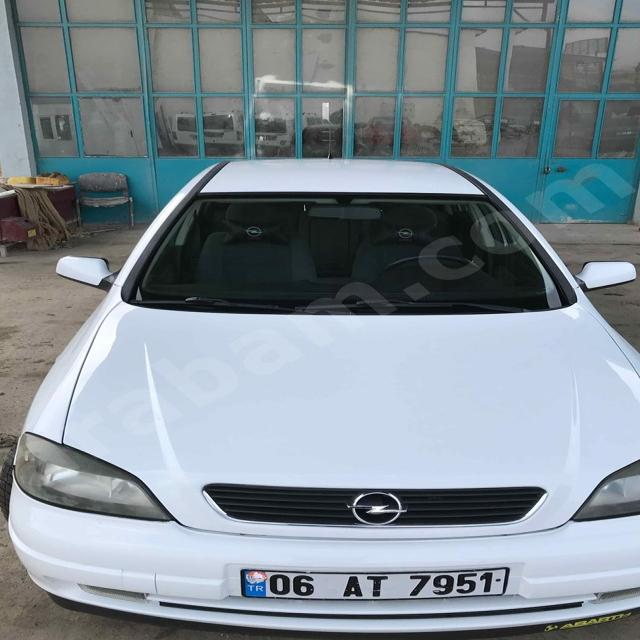license_plate: (241, 567, 508, 600)
